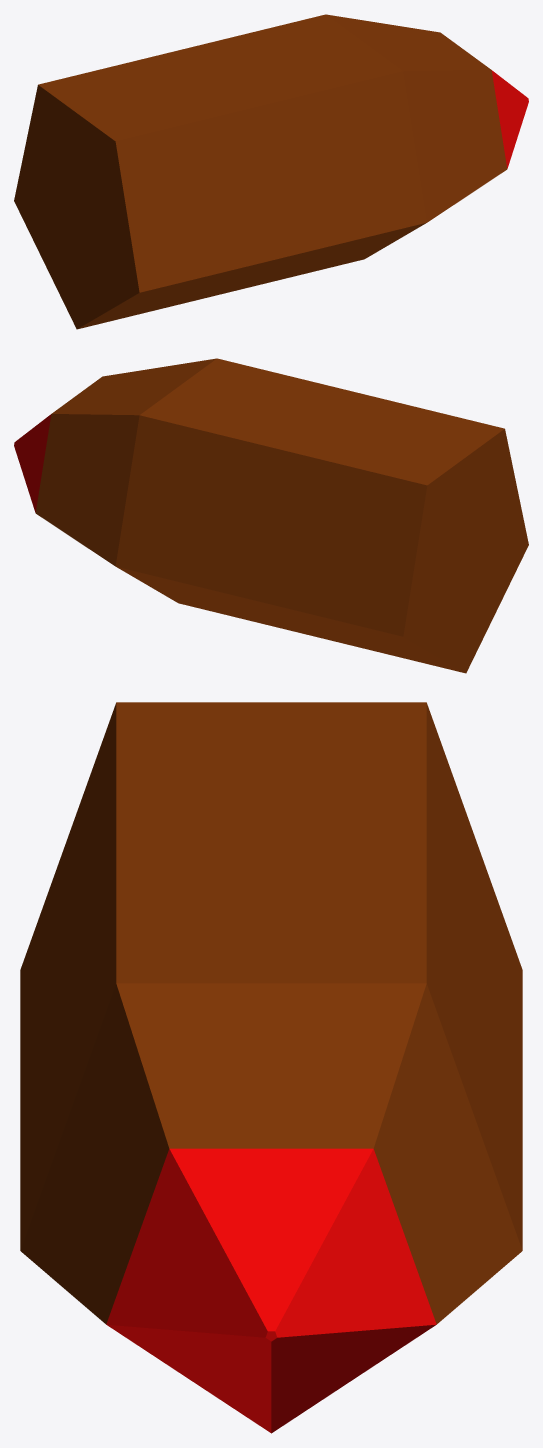
The model's file is Winchester bullet red.FBX.
The picture shows the model from 3 angles, top to bottom: view 1: azimuth 30°, elevation 25°; view 2: azimuth 150°, elevation 25°; view 3: azimuth 270°, elevation 25°; orthographic projection. The views are drawn at different scales.
Parts seen in each view (by area): view 1: Bullet, Bullet tip; view 2: Bullet, Bullet tip; view 3: Bullet, Bullet tip.
Boxes of the visible parts, left/top/right/bottom form: Bullet: left=14, top=14, right=507, bottom=329; Bullet tip: left=491, top=70, right=528, bottom=168; Bullet: left=35, top=358, right=528, bottom=673; Bullet tip: left=14, top=414, right=51, bottom=512; Bullet: left=20, top=702, right=522, bottom=1324; Bullet tip: left=106, top=1148, right=436, bottom=1433.
Bounding box in the file's own units: 9.68 × 4.44 × 4.67.
